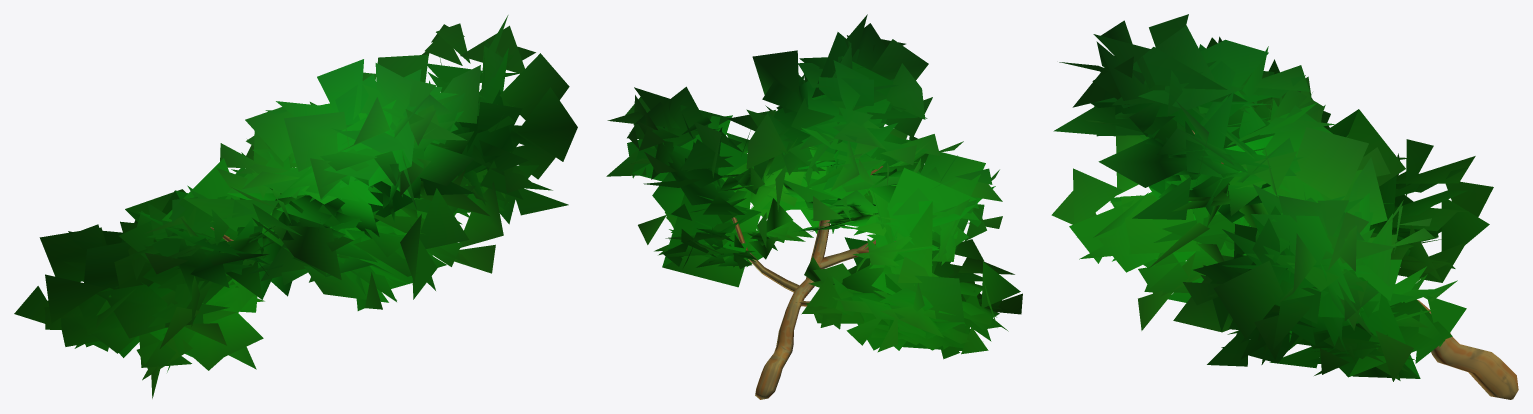
Rendered from env_forest_gianttree_bigbranch01_lod2.fbx.
The picture shows the model from 3 angles, left to right: view 1: azimuth 30°, elevation 25°; view 2: azimuth 150°, elevation 25°; view 3: azimuth 270°, elevation 25°; orthographic projection. The views are drawn at different scales.
Visible parts, largest first — view 1: bigbranch01_lod2; view 2: bigbranch01_lod2; view 3: bigbranch01_lod2.
Boxes of the visible parts, x1=… form: bigbranch01_lod2: x1=14, y1=15, x2=577, y2=398; bigbranch01_lod2: x1=606, y1=14, x2=1022, y2=399; bigbranch01_lod2: x1=1051, y1=14, x2=1518, y2=399.
Bounding box in the file's own units: 177 × 114 × 123.
